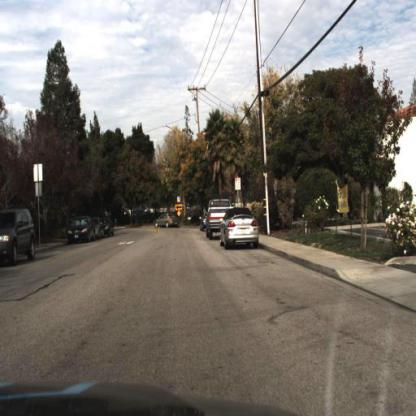car: (1, 208, 39, 268), (219, 204, 261, 251), (205, 198, 235, 241), (63, 216, 97, 247), (67, 216, 94, 247), (155, 209, 181, 230)
